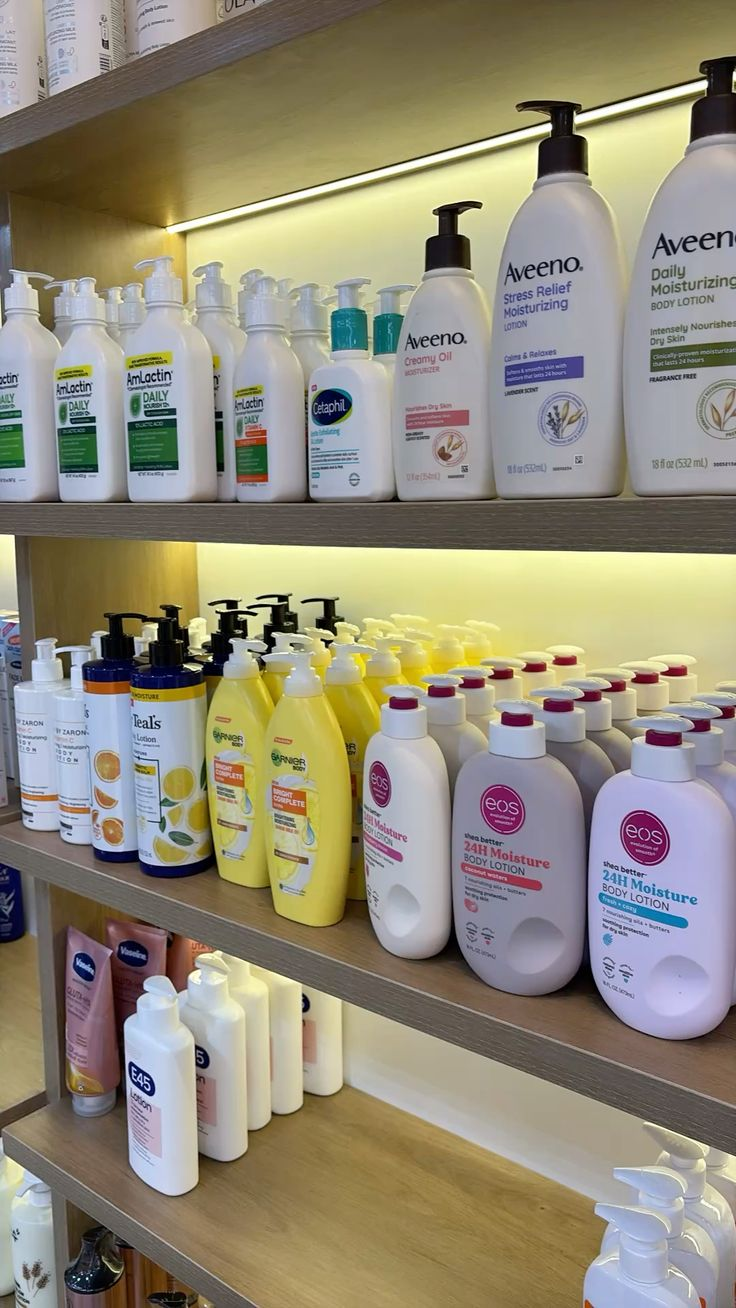Shampoo: (491, 102, 623, 497), (588, 709, 735, 1038), (266, 653, 351, 926)
